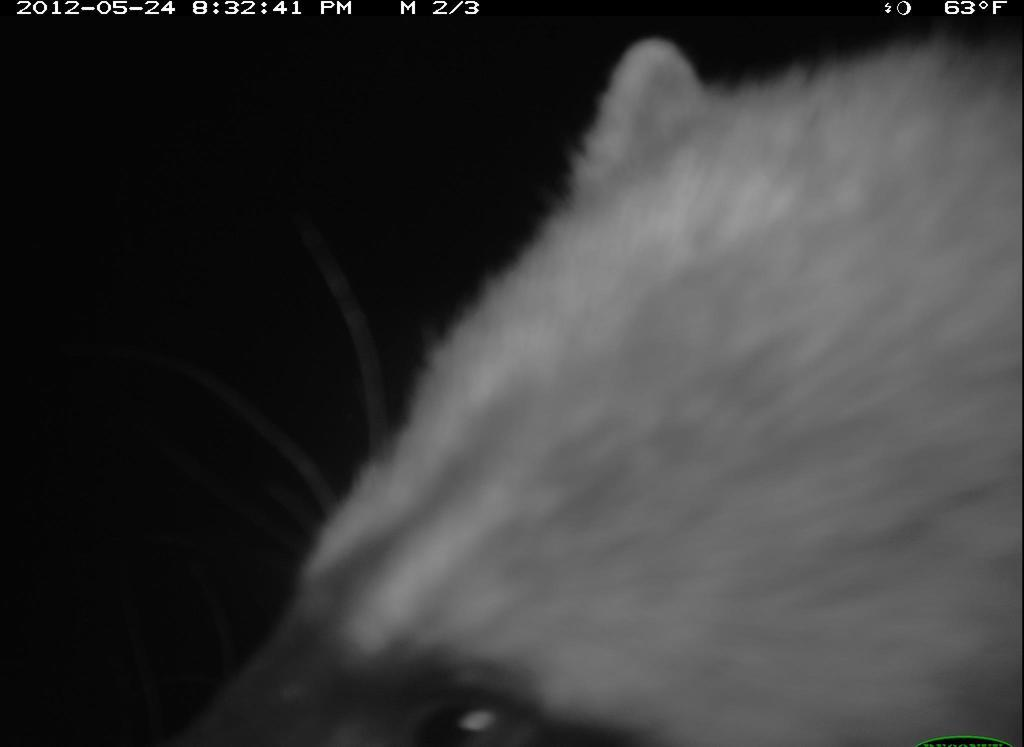raccoon: (153, 22, 1023, 745)
